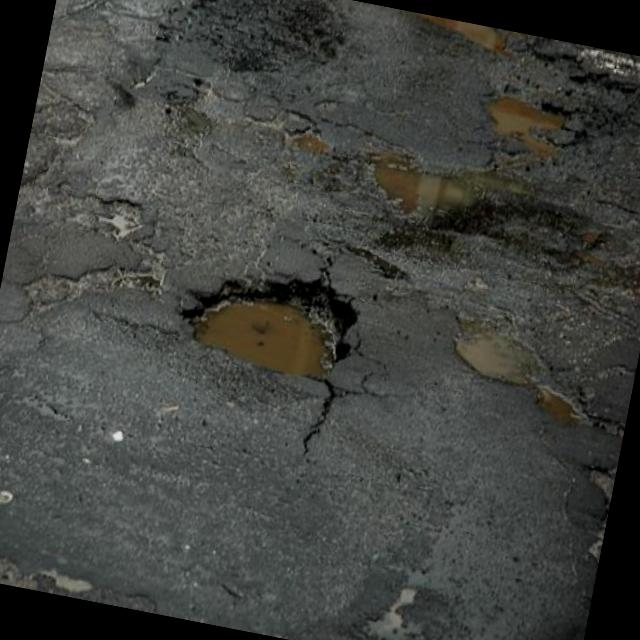pothole: (168, 250, 363, 394), (439, 306, 609, 434)
